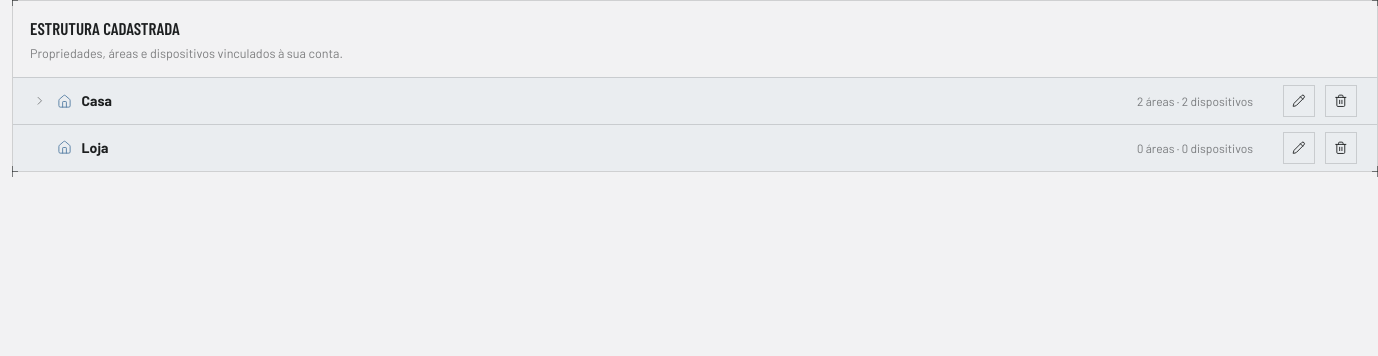
RegistrationTree — estrutura › expande a propriedade para mostrar as áreas e a área para mostrar os dispositivos
Click the button "Casa 2 áreas · 2 dispositivos".
click(97, 101)  # box [13, 78, 1273, 124]
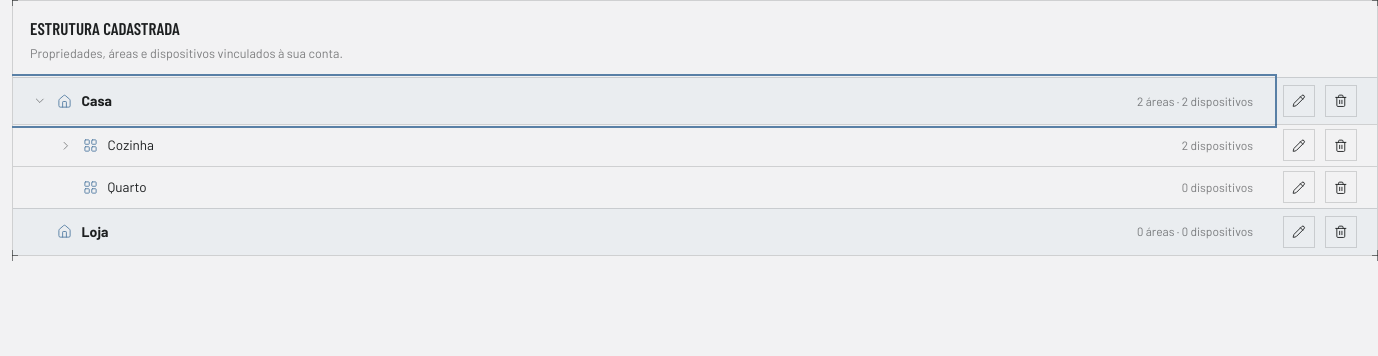
Result: the button "Cozinha 2 dispositivos" is shown
Click the button "Cozinha 2 dispositivos".
click(131, 144)  # box [13, 125, 1273, 166]
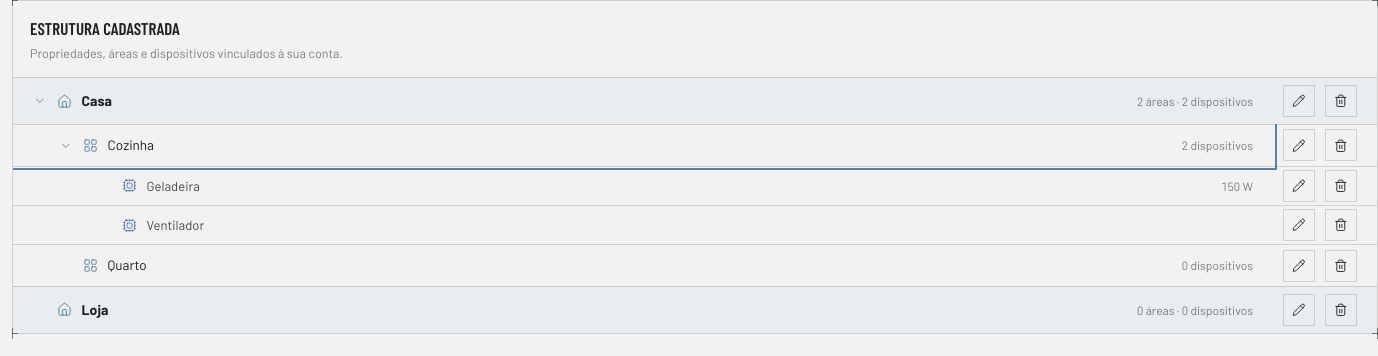
Result: the button named "Editar dispositivo Geladeira" is shown at [1283, 170, 1315, 202]
Result: the text "Geladeira" is shown at [147, 178, 200, 194]
Result: the text "150 W" is shown at [1221, 177, 1253, 195]
